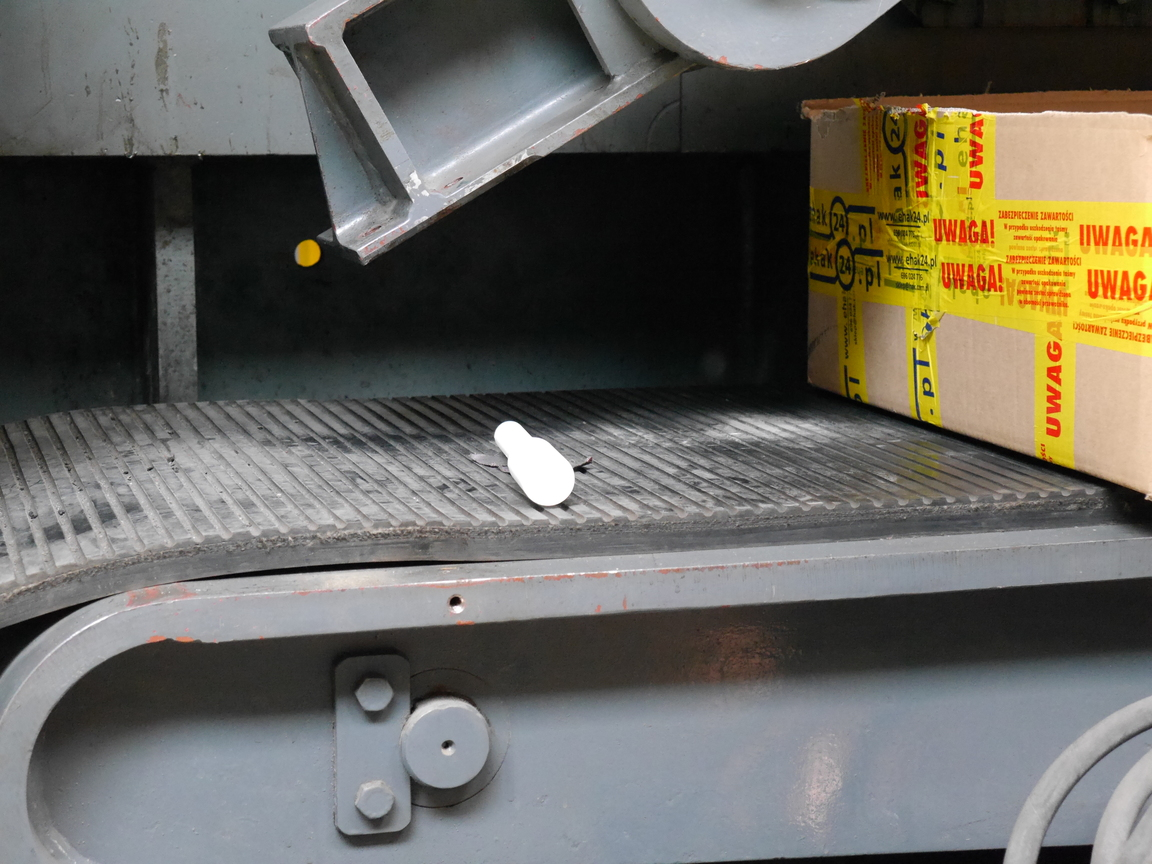cargo_g: (491, 419, 575, 506)
